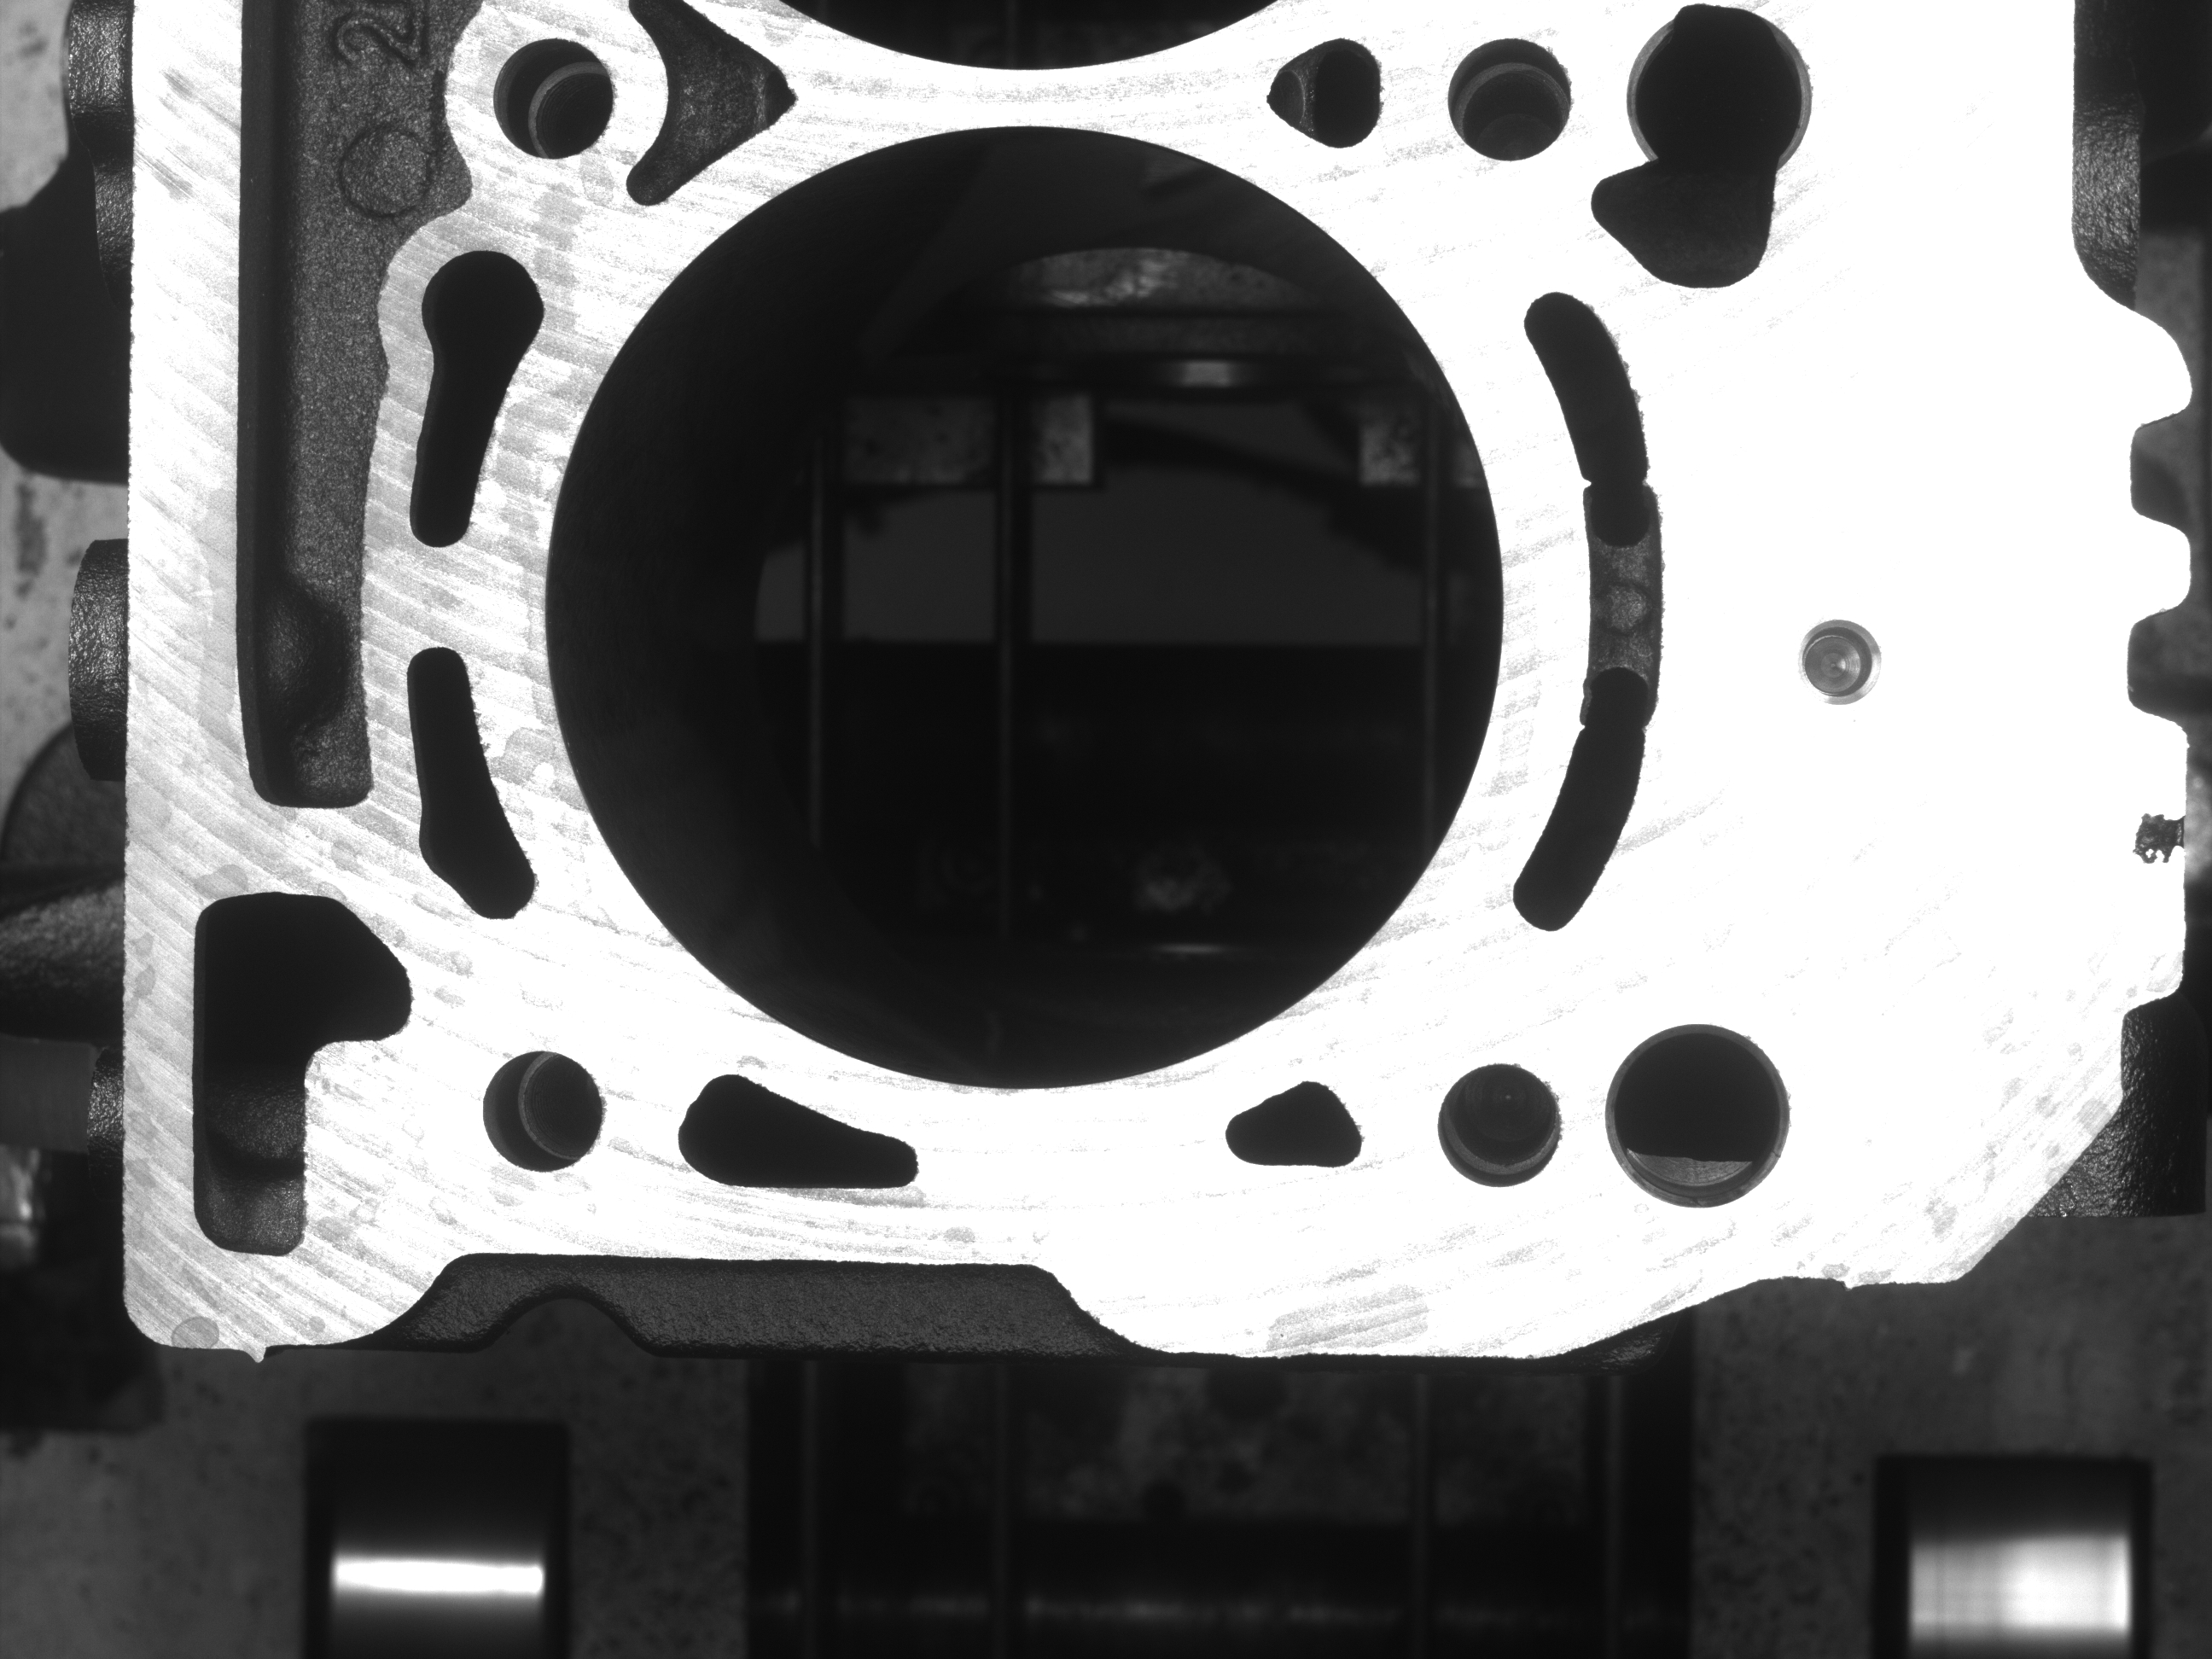shrinkage: (2113, 786, 2182, 884)
